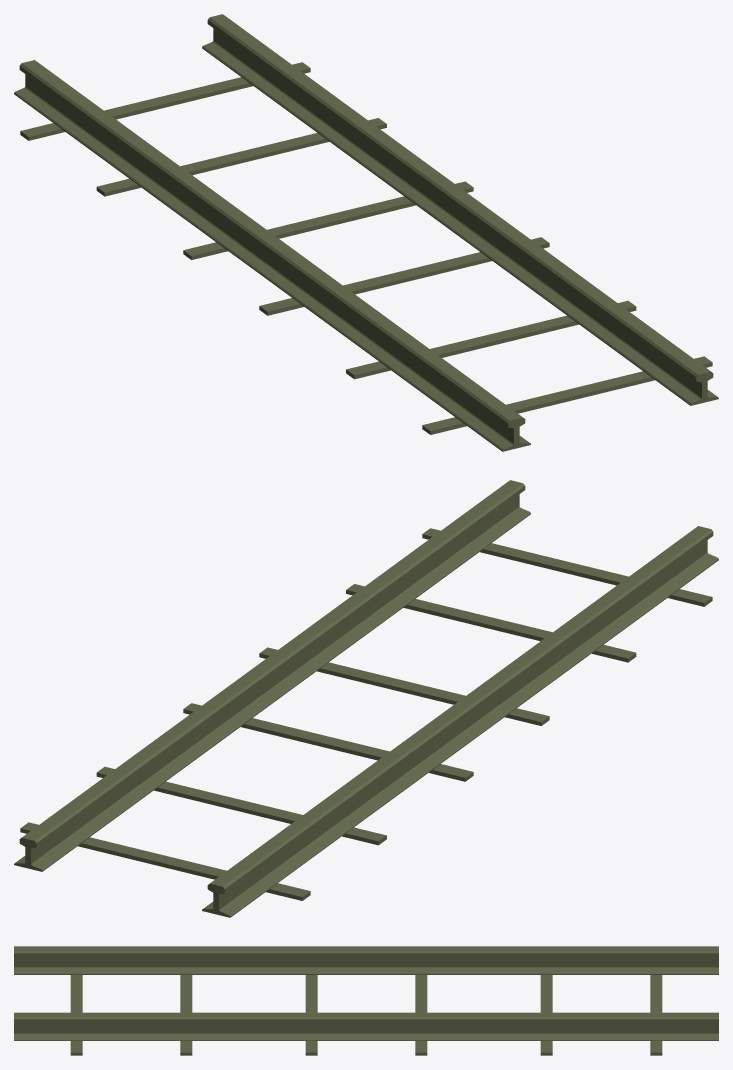
File: Schiene_T1_01.fbx
3 views of the same model, one above another, from view 1: azimuth 30°, elevation 25°; view 2: azimuth 150°, elevation 25°; view 3: azimuth 270°, elevation 25° (orthographic). The views are drawn at different scales.
Parts seen in each view (by area): view 1: Schienenstueck_02_Beveled.003, Schienenstueck_02_Beveled.006, Schienenstueck_02_Beveled.002, Schienenstueck_02_Beveled.001, Schienenstueck_02_Beveled.004, Schienenstueck_02_Beveled.005, Schienenstrebe_01.006, Schienenstrebe_01.003, Schienenstrebe_01.002, Schienenstrebe_01.001, Schienenstrebe_01.005, Schienenstrebe_01.004; view 2: Schienenstueck_02_Beveled.001, Schienenstueck_02_Beveled.002, Schienenstueck_02_Beveled.006, Schienenstueck_02_Beveled.003, Schienenstueck_02_Beveled.004, Schienenstueck_02_Beveled.005, Schienenstrebe_01.003, Schienenstrebe_01.006, Schienenstrebe_01.001, Schienenstrebe_01.002, Schienenstrebe_01.004, Schienenstrebe_01.005; view 3: Schienenstueck_02_Beveled.004, Schienenstueck_02_Beveled.005, Schienenstueck_02_Beveled.001, Schienenstueck_02_Beveled.002, Schienenstueck_02_Beveled.003, Schienenstueck_02_Beveled.006, Schienenstrebe_01.002, Schienenstrebe_01.001, Schienenstrebe_01.003, Schienenstrebe_01.004, Schienenstrebe_01.005, Schienenstrebe_01.006.
Part boxes in pixels (bbox=[...]): Schienenstueck_02_Beveled.003: bbox=[527, 252, 718, 405]; Schienenstueck_02_Beveled.006: bbox=[339, 298, 530, 451]; Schienenstueck_02_Beveled.002: bbox=[14, 60, 197, 213]; Schienenstueck_02_Beveled.001: bbox=[202, 14, 384, 167]; Schienenstueck_02_Beveled.004: bbox=[365, 133, 547, 286]; Schienenstueck_02_Beveled.005: bbox=[177, 179, 359, 332]; Schienenstrebe_01.006: bbox=[422, 356, 712, 434]; Schienenstrebe_01.003: bbox=[20, 62, 310, 140]; Schienenstrebe_01.002: bbox=[183, 181, 473, 259]; Schienenstrebe_01.001: bbox=[259, 237, 549, 315]; Schienenstrebe_01.005: bbox=[346, 300, 636, 379]; Schienenstrebe_01.004: bbox=[96, 118, 386, 196]; Schienenstueck_02_Beveled.001: bbox=[14, 718, 205, 871]; Schienenstueck_02_Beveled.002: bbox=[202, 764, 393, 917]; Schienenstueck_02_Beveled.006: bbox=[535, 526, 718, 679]; Schienenstueck_02_Beveled.003: bbox=[348, 480, 530, 633]; Schienenstueck_02_Beveled.004: bbox=[185, 599, 367, 752]; Schienenstueck_02_Beveled.005: bbox=[373, 645, 555, 798]; Schienenstrebe_01.003: bbox=[20, 822, 310, 900]; Schienenstrebe_01.006: bbox=[422, 528, 712, 606]; Schienenstrebe_01.001: bbox=[259, 647, 549, 725]; Schienenstrebe_01.002: bbox=[183, 703, 473, 781]; Schienenstrebe_01.004: bbox=[96, 766, 386, 845]; Schienenstrebe_01.005: bbox=[346, 584, 636, 662]; Schienenstueck_02_Beveled.004: bbox=[249, 1012, 483, 1040]; Schienenstueck_02_Beveled.005: bbox=[249, 946, 483, 974]; Schienenstueck_02_Beveled.001: bbox=[484, 1012, 718, 1040]; Schienenstueck_02_Beveled.002: bbox=[484, 946, 718, 974]; Schienenstueck_02_Beveled.003: bbox=[14, 1012, 248, 1040]; Schienenstueck_02_Beveled.006: bbox=[14, 946, 248, 974]; Schienenstrebe_01.002: bbox=[415, 975, 427, 1055]; Schienenstrebe_01.001: bbox=[305, 975, 317, 1055]; Schienenstrebe_01.003: bbox=[650, 975, 662, 1055]; Schienenstrebe_01.004: bbox=[540, 975, 552, 1055]; Schienenstrebe_01.005: bbox=[180, 975, 192, 1055]; Schienenstrebe_01.006: bbox=[70, 975, 82, 1055].
Size of the model in its own units: 240 by 26.96 by 720.
